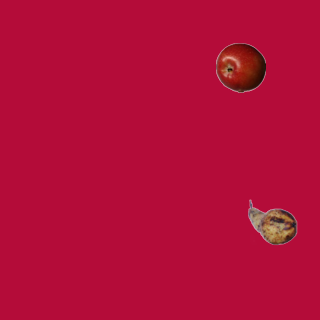Apple Braeburn: (215, 42, 265, 92)
Pear Abate: (247, 197, 297, 247)
